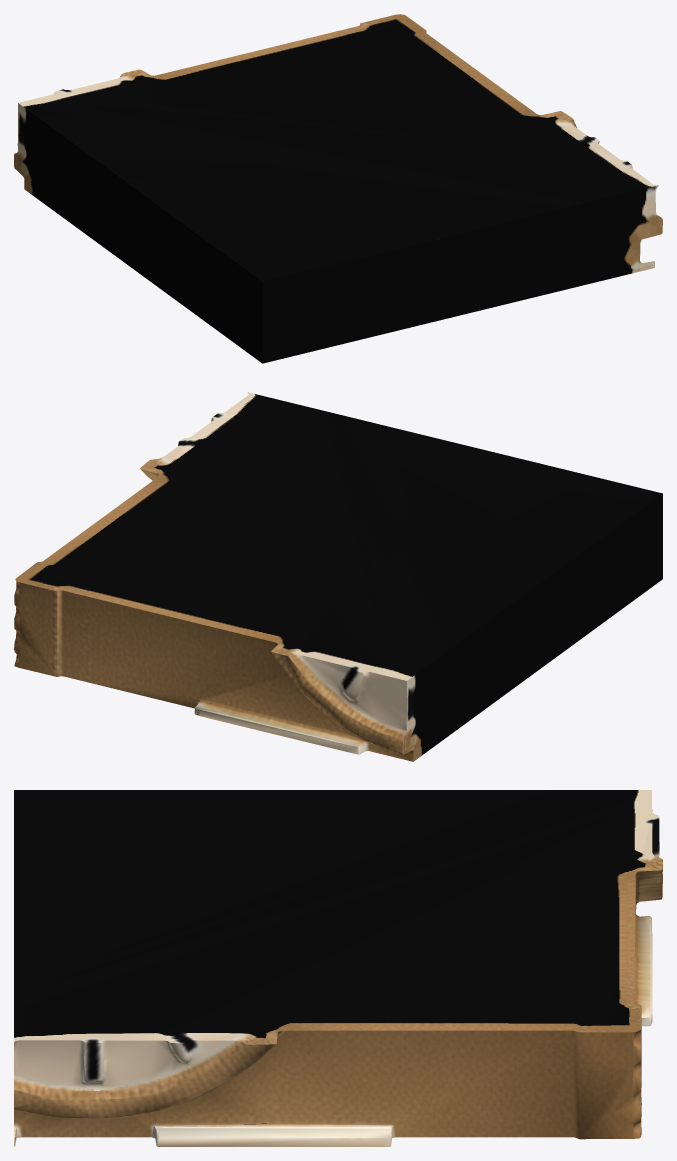
Rendered from 12-roof-back-right.fbx.
The picture shows the model from 3 angles, top to bottom: view 1: azimuth 30°, elevation 25°; view 2: azimuth 150°, elevation 25°; view 3: azimuth 270°, elevation 25°; orthographic projection. The views are drawn at different scales.
Visible parts, largest first — view 1: roof-back-right; view 2: roof-back-right; view 3: roof-back-right.
Boxes of the visible parts, x1,y1,x2,y2 form: roof-back-right: (14, 14, 662, 363); roof-back-right: (14, 392, 662, 761); roof-back-right: (14, 790, 662, 1146).
Bounding box in the file's own units: 4881 × 952 × 5249.
1 material, 1 textured.
